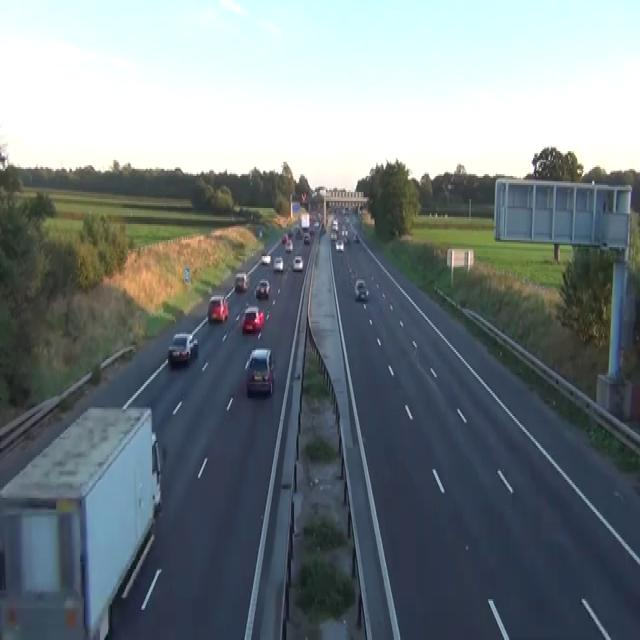Car: (244, 346, 274, 396), (167, 330, 198, 364), (151, 432, 162, 512), (242, 304, 264, 332), (207, 295, 228, 322), (354, 279, 369, 301), (255, 277, 270, 299), (234, 270, 248, 292), (292, 254, 303, 270), (273, 256, 283, 272), (260, 252, 270, 265), (335, 238, 344, 251), (285, 238, 293, 252), (330, 229, 338, 242), (303, 231, 310, 244), (342, 229, 349, 242), (281, 233, 288, 243), (313, 220, 320, 230), (294, 228, 301, 238), (353, 233, 359, 242), (309, 226, 315, 234), (321, 224, 326, 233), (343, 234, 348, 243), (258, 228, 262, 238), (288, 228, 292, 236)
Truck: (0, 404, 161, 638), (300, 212, 309, 230)
